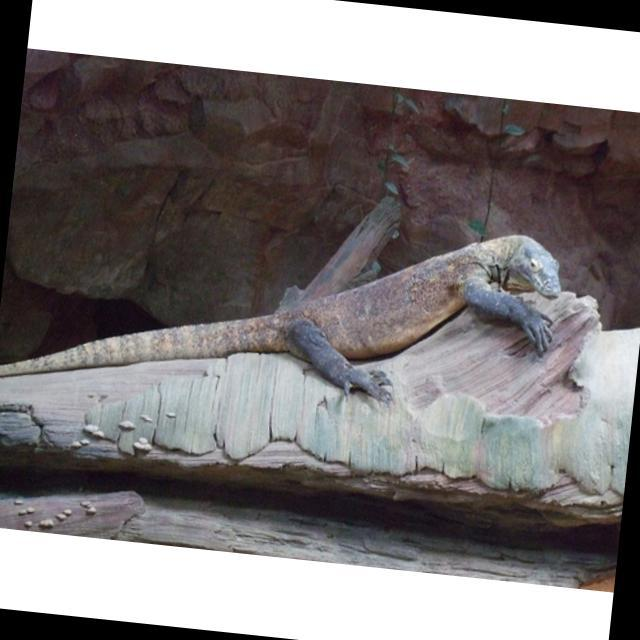KomodoDragon: (0, 180, 565, 435)
